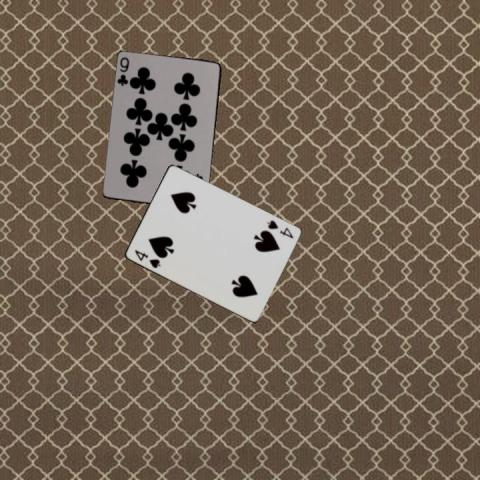4s: (263, 217, 295, 240), (131, 247, 162, 270)
9c: (114, 55, 130, 88)
